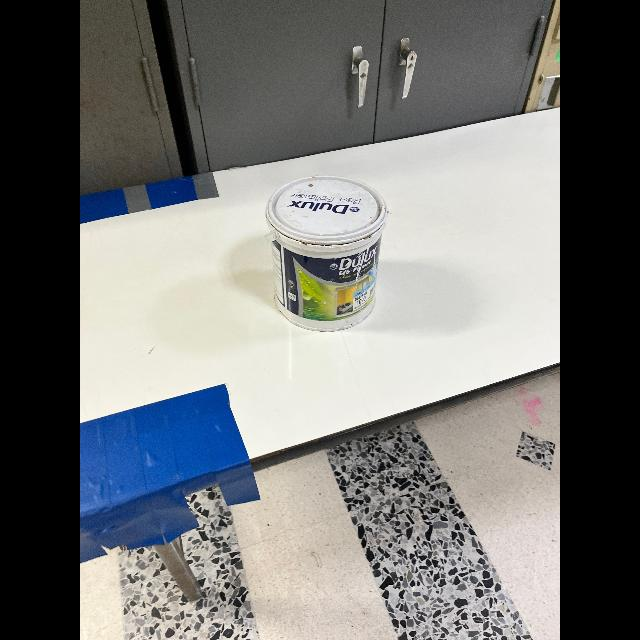paint_bucket: (253, 178, 405, 334)
